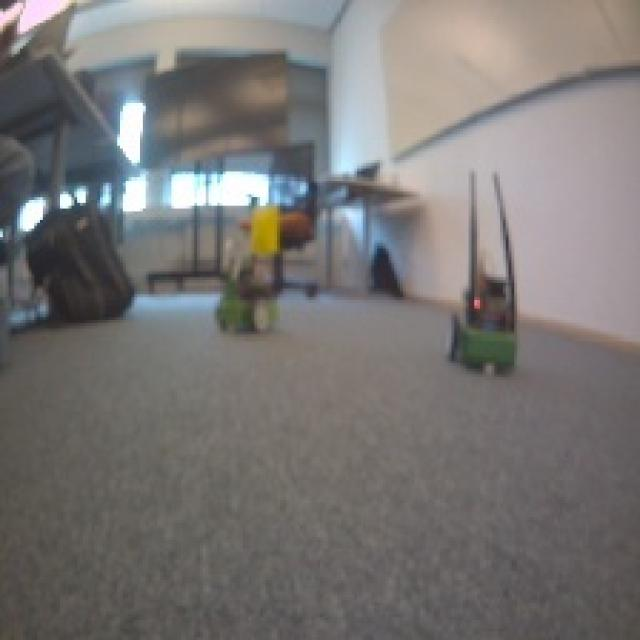robot: (443, 280, 521, 378), (215, 267, 281, 337)
